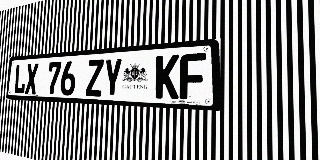6: (60, 61, 76, 96)
7: (46, 62, 62, 95)
F: (179, 53, 206, 100)
K: (155, 54, 179, 99)
L: (14, 64, 27, 94)
X: (25, 63, 38, 94)
Y: (103, 58, 123, 97)
Z: (86, 59, 104, 97)
